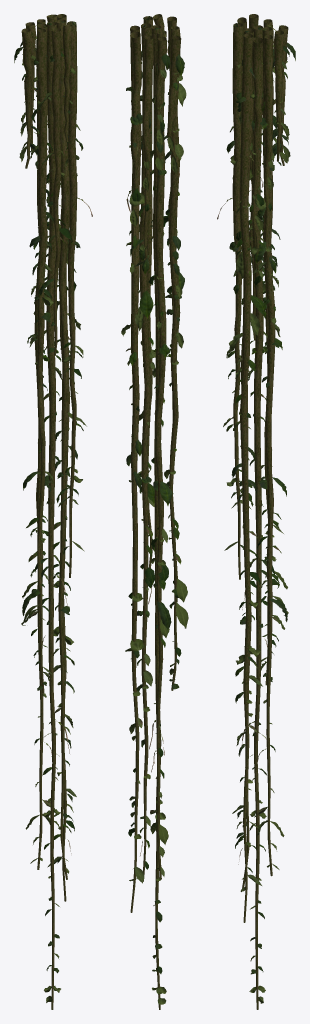
File: SM_Vine_Long.fbx
The picture shows the model from 3 angles, left to right: view 1: azimuth 90°, elevation 25°; view 2: azimuth 210°, elevation 25°; view 3: azimuth 270°, elevation 25°; orthographic projection.
Parts seen in each view (by area): view 1: SM_Vine_Long_LOD0; view 2: SM_Vine_Long_LOD0; view 3: SM_Vine_Long_LOD0.
Part boxes in pixels (bbox=[...]): SM_Vine_Long_LOD0: bbox=[14, 14, 92, 1009]; SM_Vine_Long_LOD0: bbox=[121, 14, 188, 1009]; SM_Vine_Long_LOD0: bbox=[217, 14, 295, 1009].
Bounding box in the file's own units: 76.82 × 96.35 × 1334.
